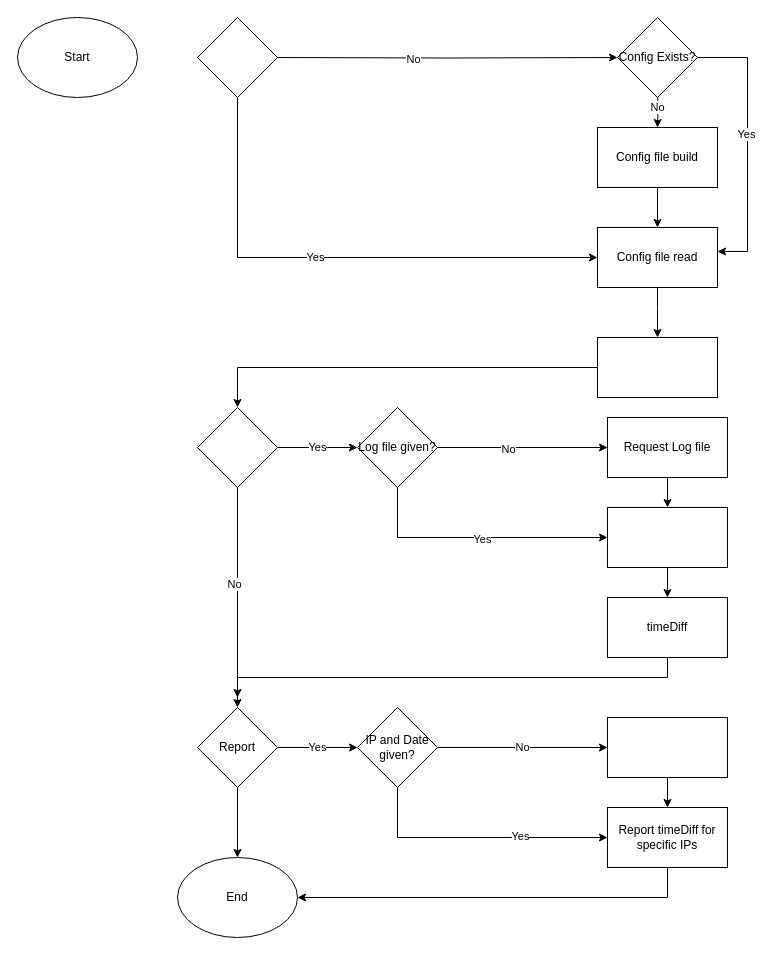
Some shapes in this 773 by 955 pixel diagram are drawn without their labels. Each missing label, with the centre of its shape:
"Config Good" goes at (237,57).
"Connect to DB" goes at (657,367).
"Load log" goes at (667,537).
"Load?" goes at (237,447).
"Loop to analyze timeDiffs for all IPs" goes at (667,747).
